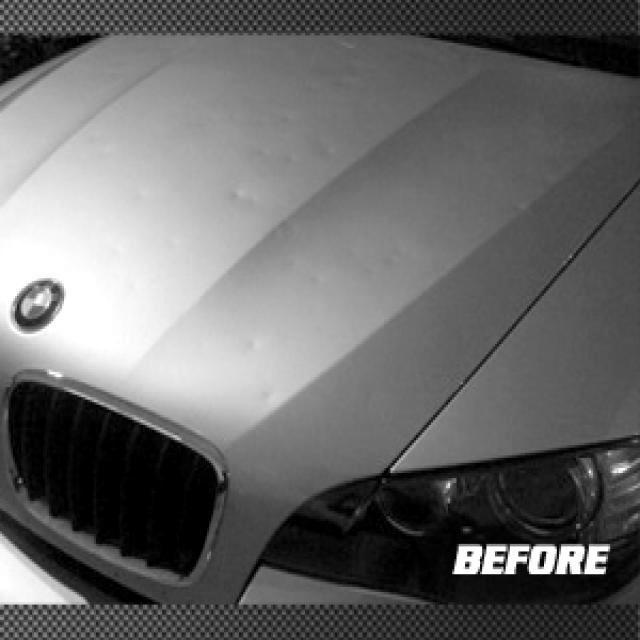bonnet-dent: (2, 167, 480, 531), (1, 40, 456, 418), (373, 53, 637, 536)
